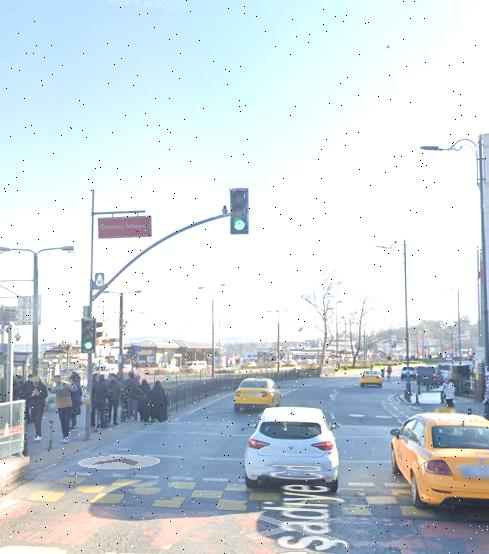greenlight: (231, 188, 247, 234), (82, 317, 93, 350)
